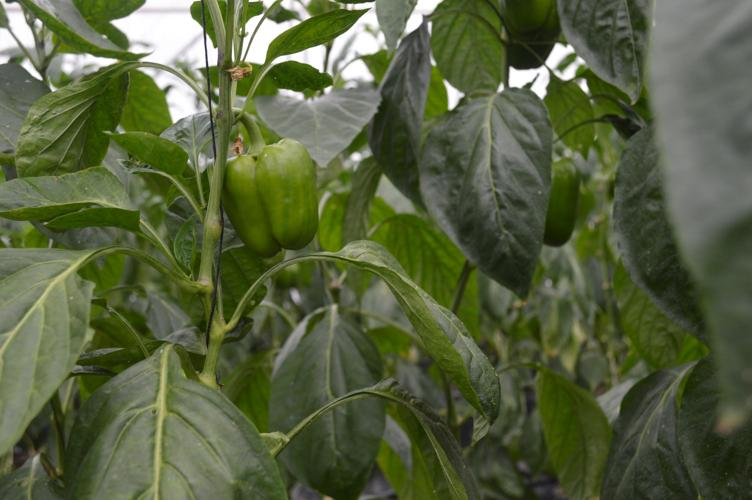BellPepper: (210, 143, 331, 264), (525, 160, 608, 243)
